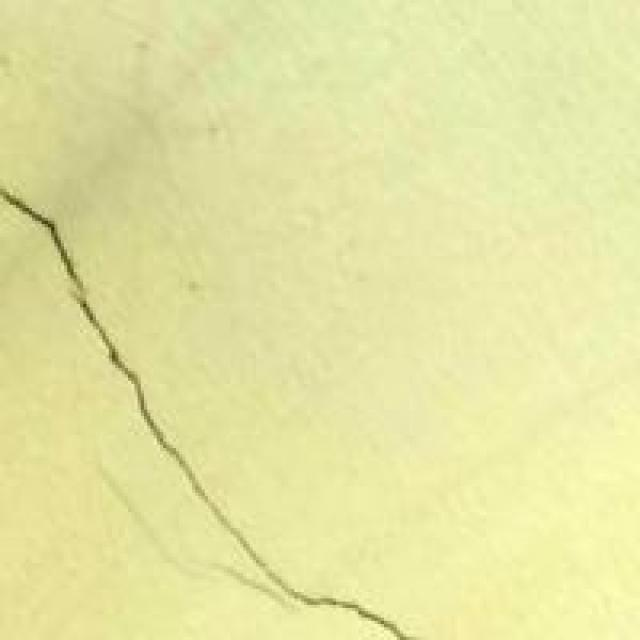crack: (0, 179, 416, 637)
